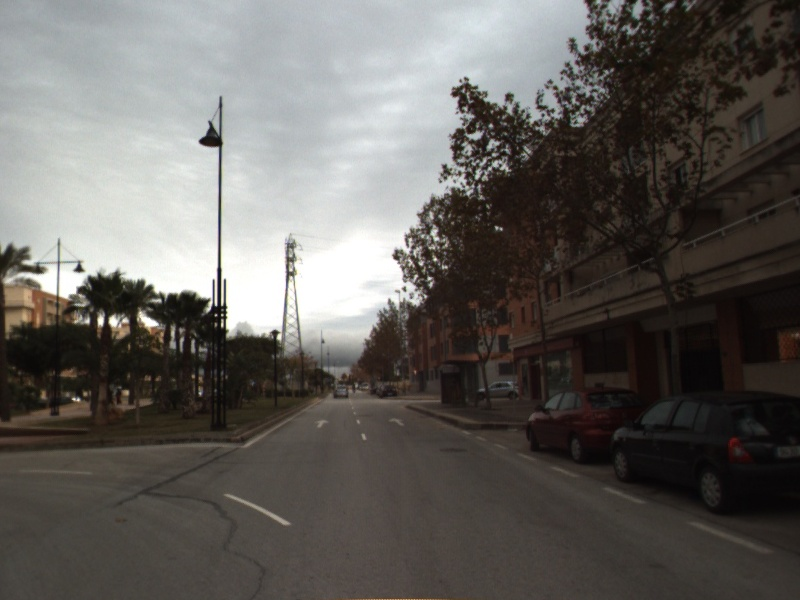STRAIGHT: (387, 415, 407, 428), (313, 417, 331, 429)
